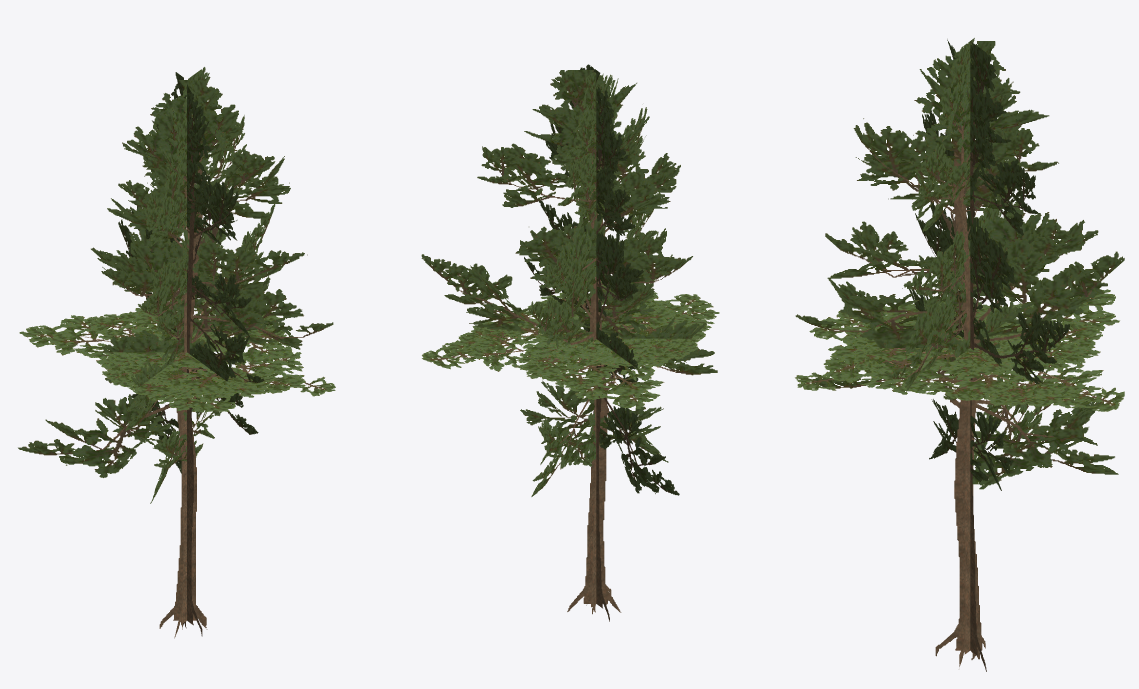
3 views of the same model, side by side, from view 1: azimuth 30°, elevation 25°; view 2: azimuth 150°, elevation 25°; view 3: azimuth 270°, elevation 25° (orthographic). The views are drawn at different scales.
Parts seen in each view (by area): view 1: Pine_big_1_Billboard_LOD3_Pine_big_1_Billboard_Mat_0; view 2: Pine_big_1_Billboard_LOD3_Pine_big_1_Billboard_Mat_0; view 3: Pine_big_1_Billboard_LOD3_Pine_big_1_Billboard_Mat_0.
Part boxes in pixels (x1=…): Pine_big_1_Billboard_LOD3_Pine_big_1_Billboard_Mat_0: x1=18, y1=67, x2=335, y2=638; Pine_big_1_Billboard_LOD3_Pine_big_1_Billboard_Mat_0: x1=421, y1=64, x2=719, y2=621; Pine_big_1_Billboard_LOD3_Pine_big_1_Billboard_Mat_0: x1=795, y1=38, x2=1124, y2=671.
Bounding box in the file's own units: 8.37 × 16.72 × 8.12.
